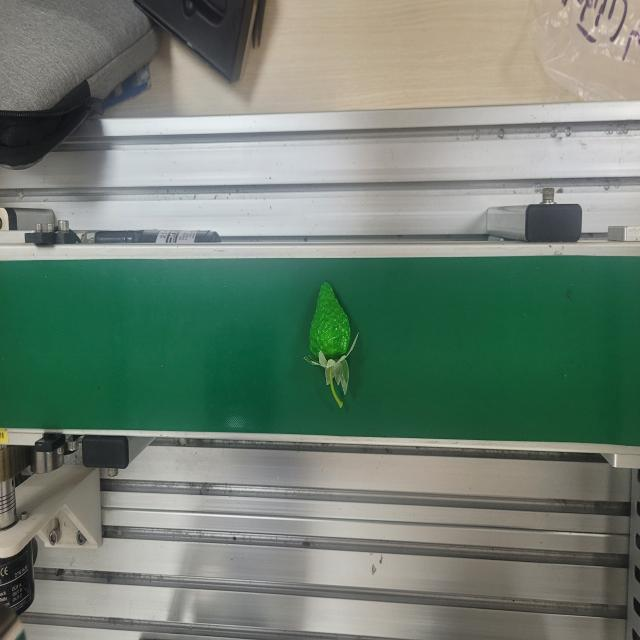Small Unripe Strawberry: (302, 276, 361, 412)
conveyor: (0, 248, 637, 452)
